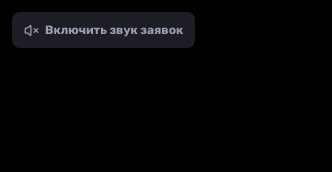
Test case: browser restrictions offer a gesture to enable sound without replaying old requests
The width and height of the screenshot is (332, 172).
Click the button "Включить звук заявок".
click(104, 30)  # box [12,12,195,48]
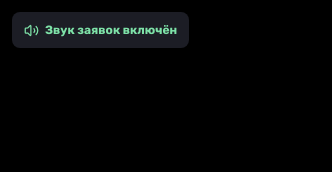
Result: the text "Звук заявок включён" is shown at [45,21,177,39]
